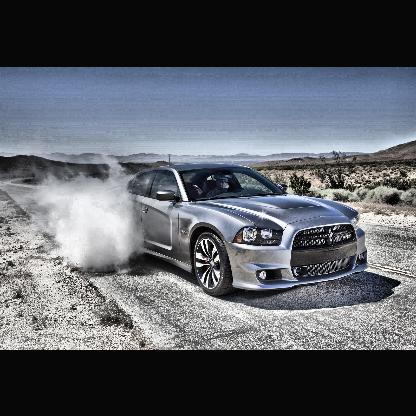Dodge Charger Sedan 2012: (119, 161, 373, 301)
